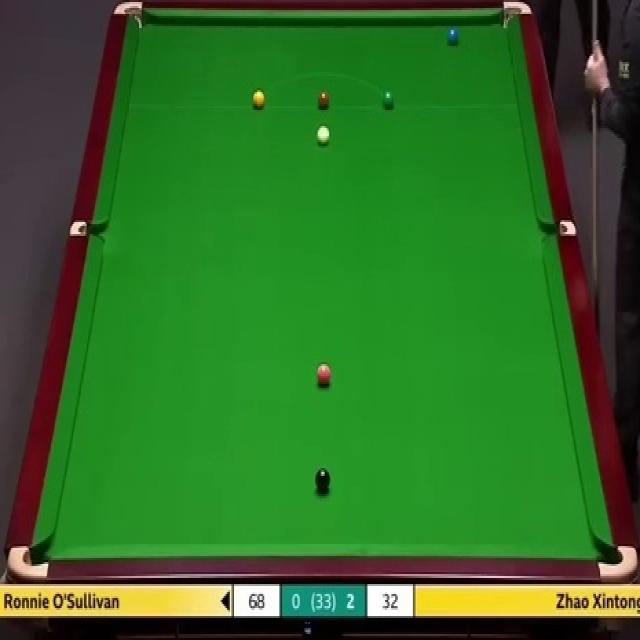pocket: (595, 543, 637, 585), (7, 543, 51, 580), (499, 0, 532, 34), (112, 0, 144, 29), (66, 220, 102, 237), (540, 222, 575, 236)
